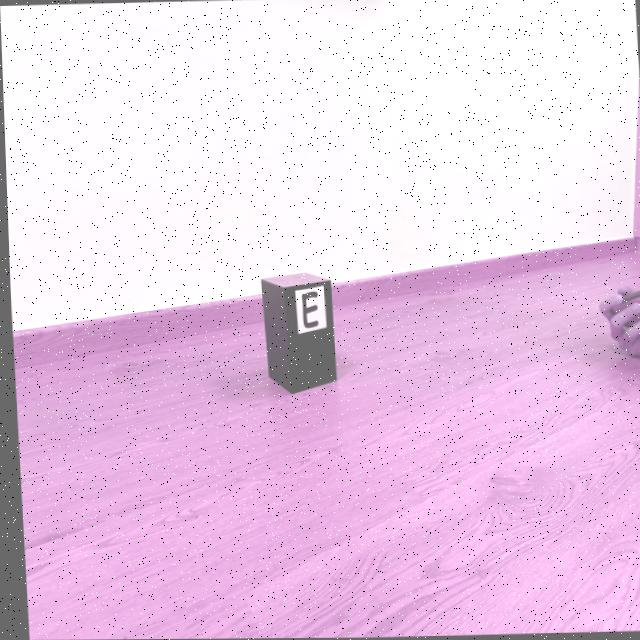E: (298, 290, 316, 329)
